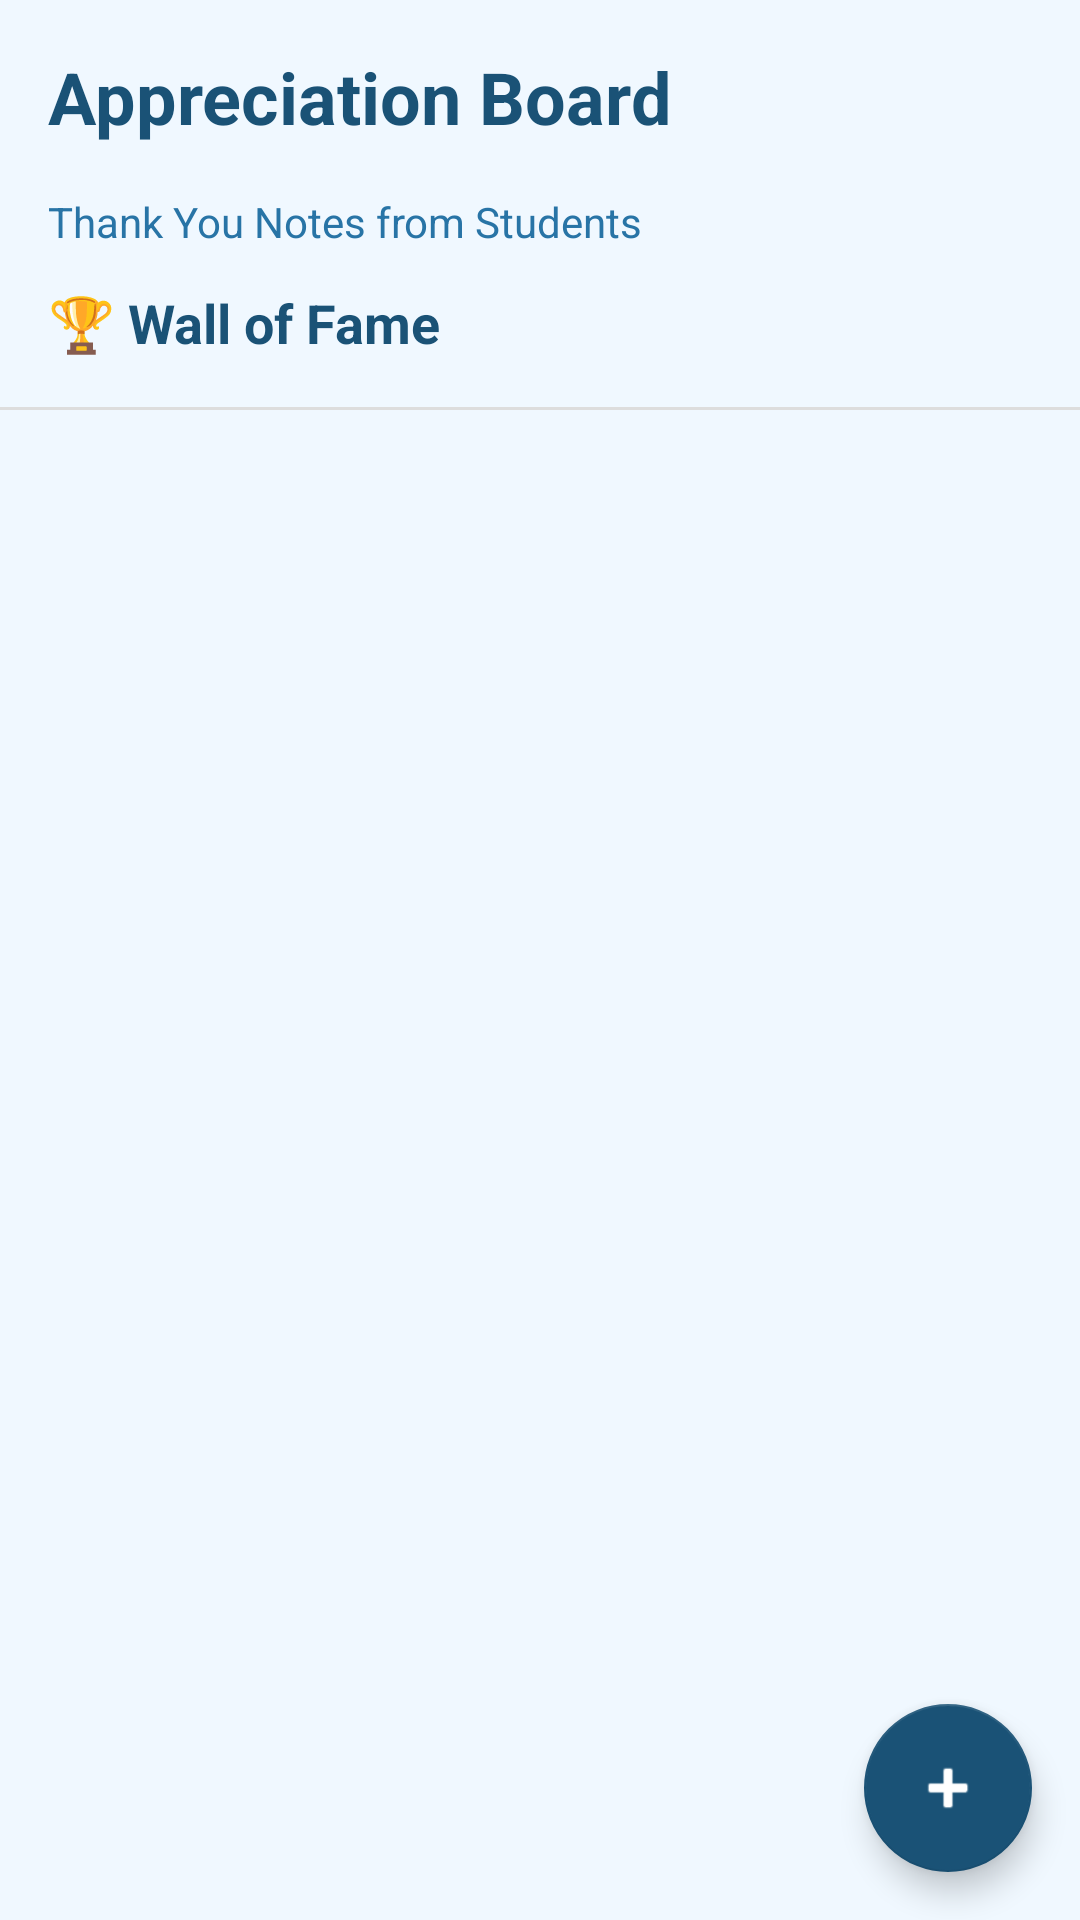

Where icons sit on this 1080 × 1920 app screen, as (x1, y1, x2, y2):
Add Note: (864, 1704, 1032, 1872)
